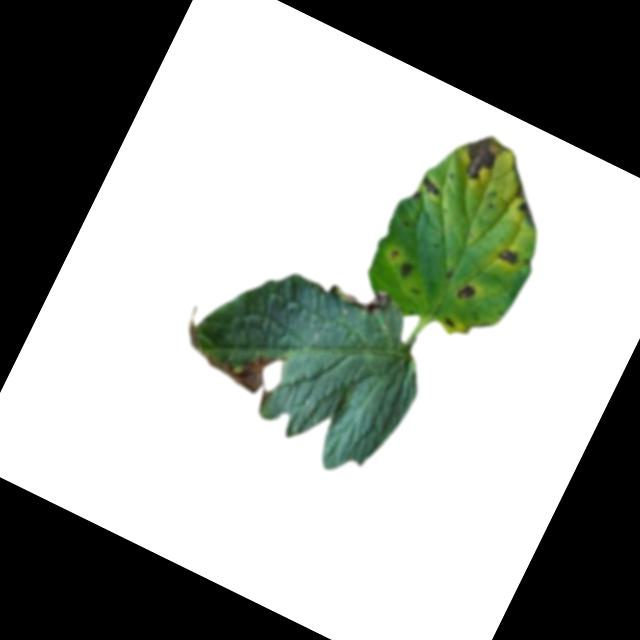Early_blight: (160, 301, 295, 410), (452, 126, 515, 191), (332, 271, 393, 323), (513, 198, 544, 228), (417, 174, 447, 198), (453, 279, 478, 305), (495, 242, 520, 266), (393, 256, 416, 280), (442, 313, 459, 328)
